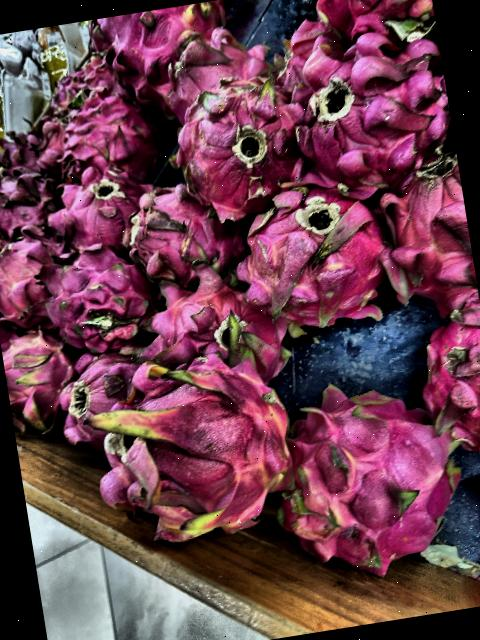buah-naga-belum-matang: (94, 338, 303, 548)
buah-naga-matang: (262, 366, 468, 576), (282, 21, 458, 186), (224, 180, 388, 332), (158, 68, 310, 204), (368, 152, 480, 310), (139, 264, 285, 384), (118, 180, 245, 296), (24, 240, 154, 346), (405, 287, 480, 457), (92, 0, 226, 80), (52, 95, 163, 186), (48, 160, 156, 246), (50, 348, 142, 446), (154, 34, 273, 104), (2, 334, 80, 426), (306, 0, 436, 48), (0, 236, 56, 322), (0, 168, 59, 227)
